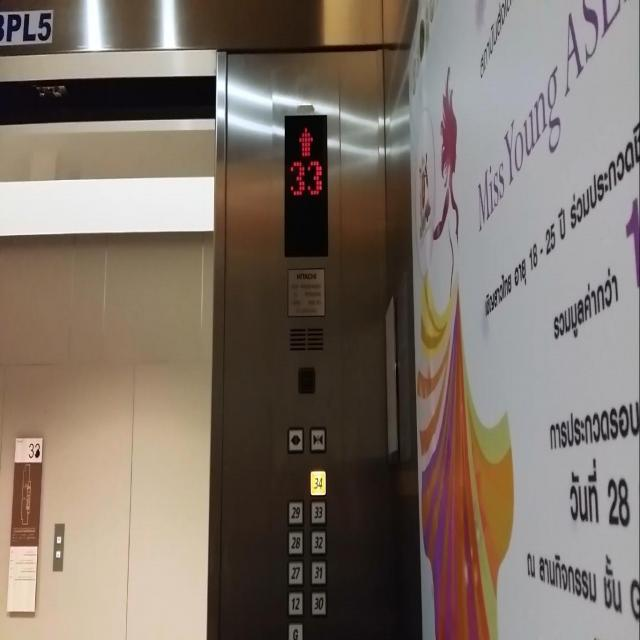12: (288, 590, 303, 616)
27: (287, 558, 303, 586)
28: (287, 528, 303, 554)
29: (287, 498, 303, 525)
30: (310, 589, 327, 616)
31: (310, 560, 326, 586)
32: (310, 528, 326, 554)
33: (310, 498, 326, 524)
34: (309, 469, 326, 496)
close: (308, 426, 326, 452)
empty: (297, 367, 315, 392)
led: (281, 109, 329, 259)
open: (285, 426, 304, 454)
